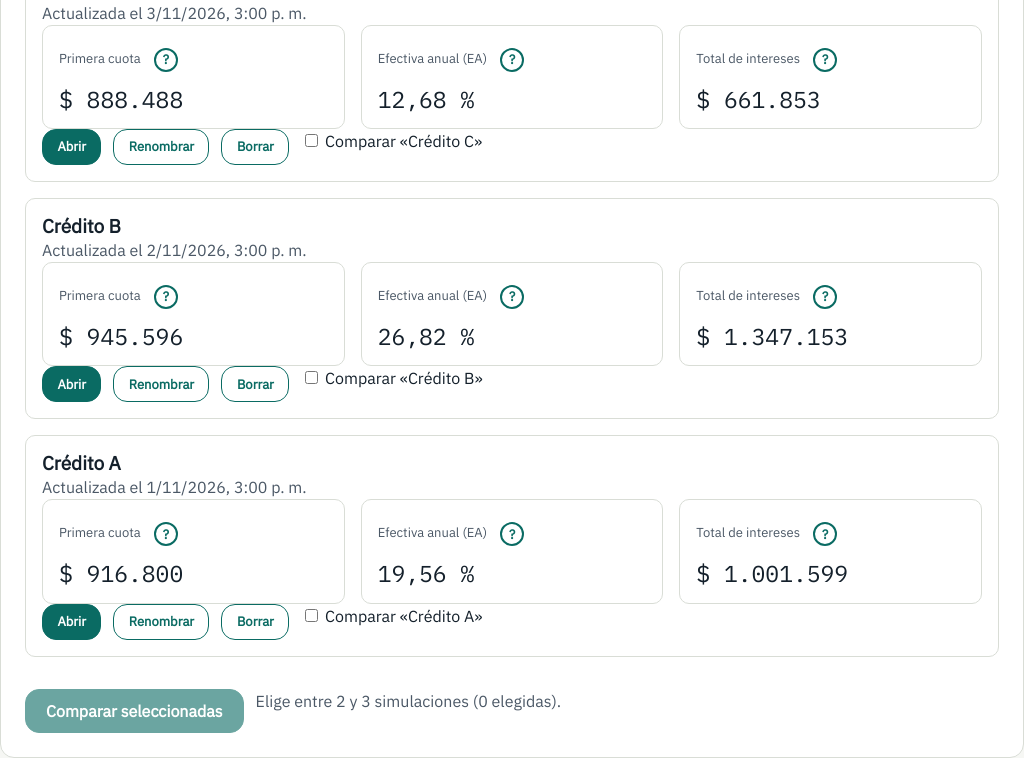
Test: HU-23: comparador › solo se pueden elegir hasta 3 y se necesitan al menos 2
(page scrolled)
Expected: the heading "Crédito A" is shown, [42,452,121,476]
Expected: the button "Comparar seleccionadas" is disabled, [25,689,244,733]
Click the checkbox labelled "Comparar «Crédito A»" at (312, 615), box [305,609,318,622]
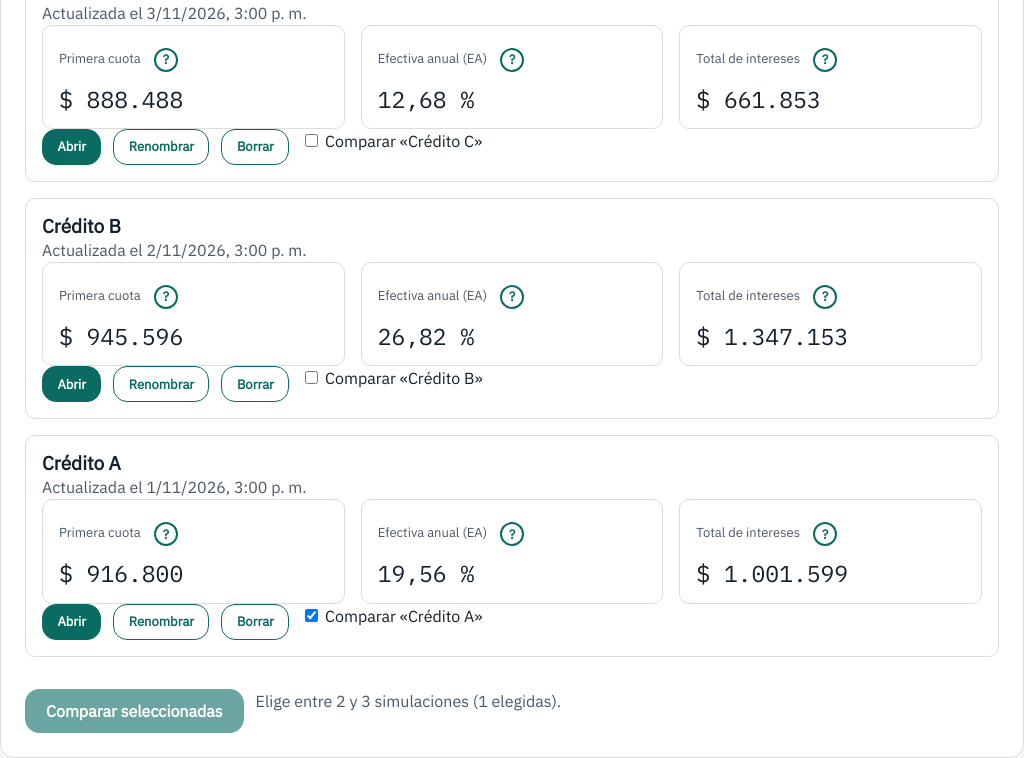
Expected: the button "Comparar seleccionadas" is disabled, [25,689,244,733]
Click the checkbox labelled "Comparar «Crédito B»" at (312, 378), box [305,372,318,384]
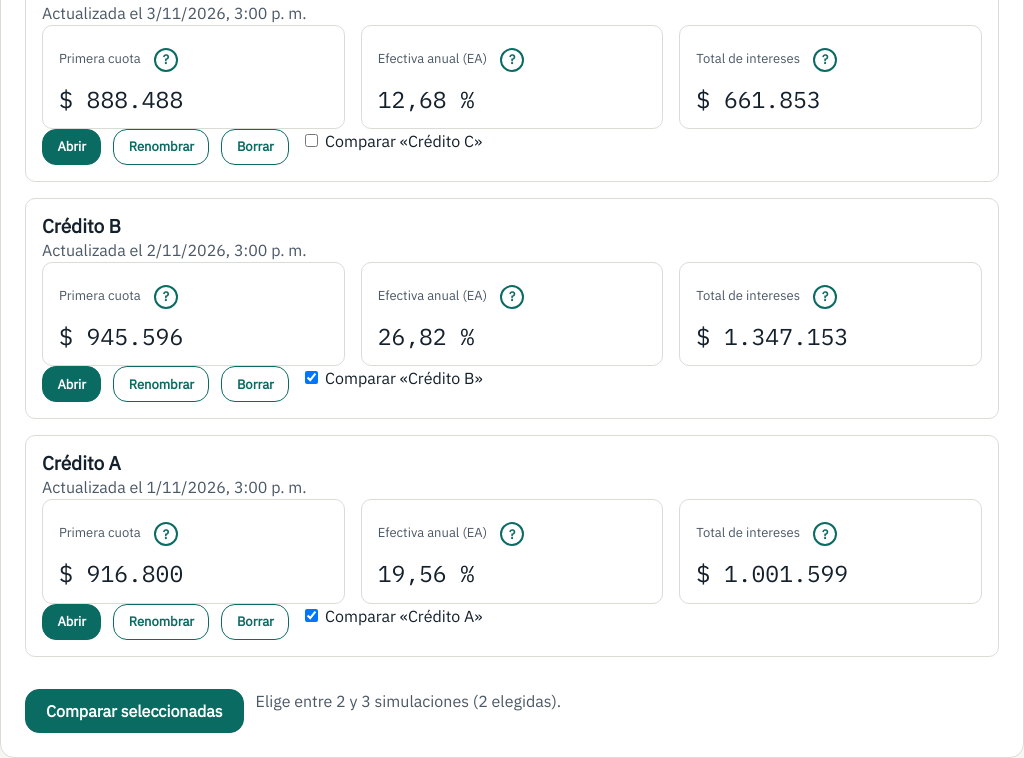
Expected: the button "Comparar seleccionadas" is enabled, [25,689,244,733]
Click the checkbox labelled "Comparar «Crédito C»" at (312, 141), box [305,134,318,147]
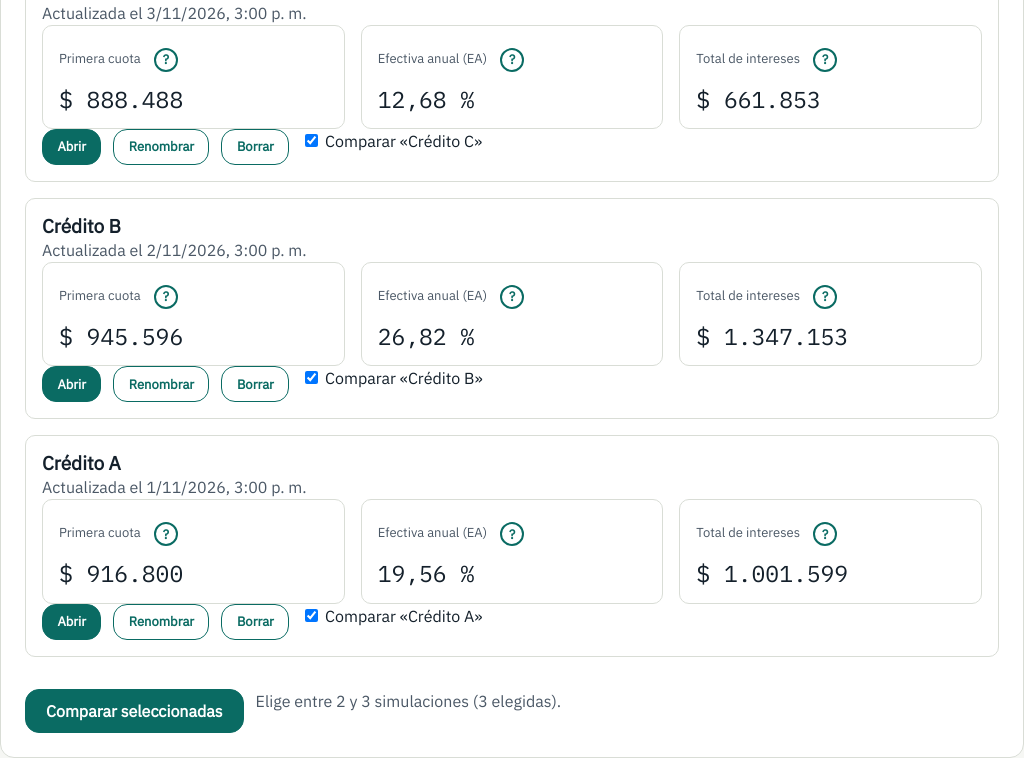
Expected: the text "Elige entre 2 y 3 simulaciones (3 elegidas)." is shown, [256,691,561,711]
# Al quitar una se libera la cuarta.
Click the checkbox labelled "Comparar «Crédito C»" at (312, 141), box [305,134,318,147]
(page scrolled)
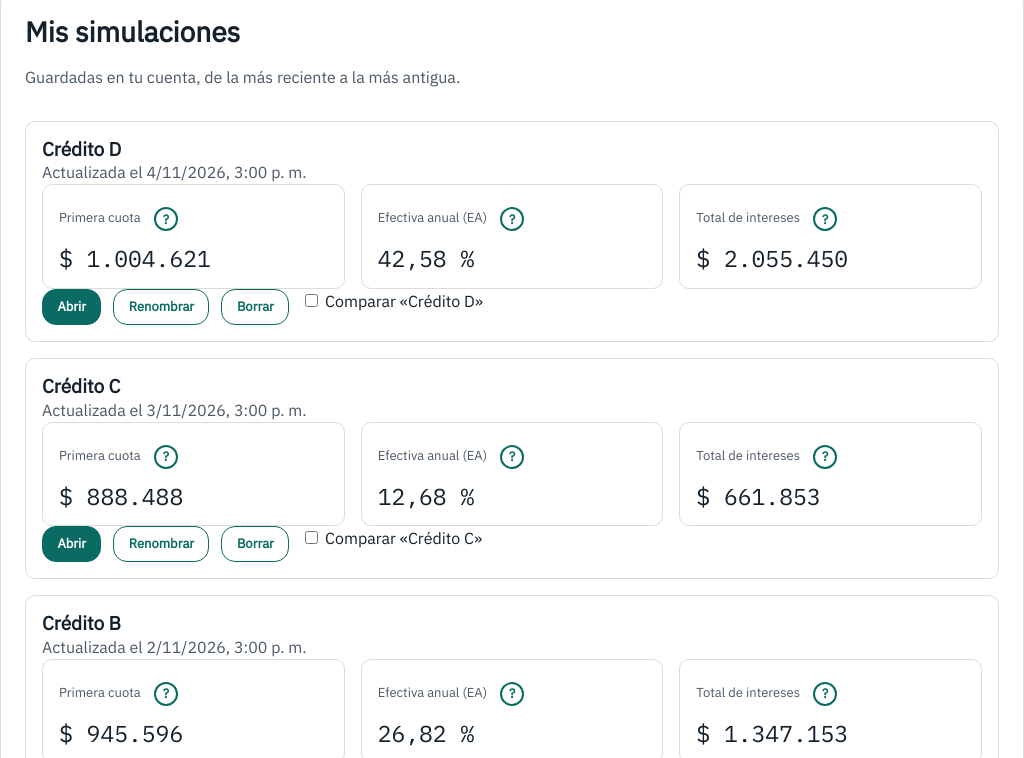
Expected: the checkbox labelled "Comparar «Crédito D»" is enabled, [305,294,318,307]
